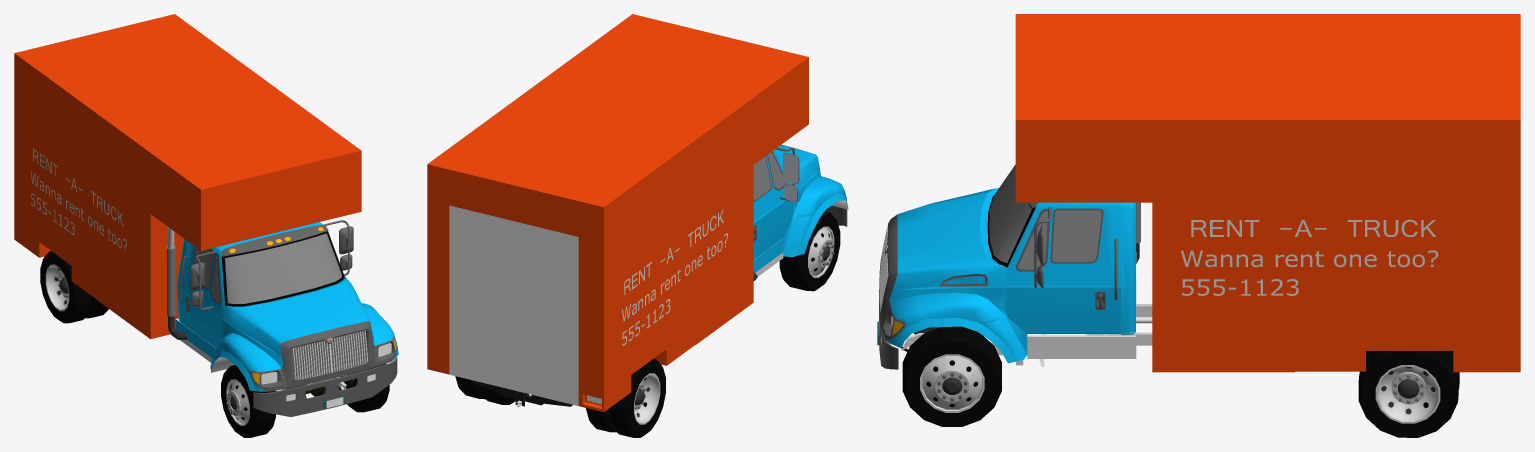
The picture shows the model from 3 angles, left to right: view 1: azimuth 30°, elevation 25°; view 2: azimuth 150°, elevation 25°; view 3: azimuth 270°, elevation 25°; orthographic projection. The views are drawn at different scales.
Parts seen in each view (by area): view 1: Layer0_001, Component#1_001, Component#9_001, Component#7_001, Wanna rent one t_001, Component#8_001, RENT -A- TRUCK#1_001; view 2: Layer0_001, Component#1_001, Component#9_001, Component#7_001, Wanna rent one t_001, Component#9_002, Rear bumper_001, RENT -A- TRUCK#1_001; view 3: Layer0_001, Component#1_001, Component#8_001, Component#9_002, Component#4_001, Wanna rent one t#1_001, RENT -A- TRUCK#2_001.
Part boxes in pixels (left/top/right/bottom): Layer0_001: left=14, top=14, right=361, bottom=408; Component#1_001: left=167, top=220, right=398, bottom=416; Component#9_001: left=40, top=251, right=108, bottom=323; Component#7_001: left=221, top=365, right=275, bottom=437; Wanna rent one t_001: left=30, top=171, right=126, bottom=251; Component#8_001: left=338, top=363, right=389, bottom=412; RENT -A- TRUCK#1_001: left=33, top=148, right=123, bottom=226; Layer0_001: left=427, top=14, right=808, bottom=412; Component#1_001: left=753, top=144, right=848, bottom=280; Component#9_001: left=586, top=358, right=665, bottom=437; Component#7_001: left=779, top=211, right=840, bottom=291; Wanna rent one t_001: left=622, top=233, right=727, bottom=345; Component#9_002: left=455, top=376, right=515, bottom=404; Rear bumper_001: left=471, top=380, right=572, bottom=406; RENT -A- TRUCK#1_001: left=624, top=209, right=723, bottom=294; Layer0_001: left=877, top=14, right=1520, bottom=372; Component#1_001: left=879, top=164, right=1140, bottom=369; Component#8_001: left=902, top=326, right=1001, bottom=426; Component#9_002: left=1358, top=351, right=1459, bottom=437; Component#4_001: left=1027, top=335, right=1136, bottom=358; Wanna rent one t#1_001: left=1181, top=250, right=1438, bottom=295; RENT -A- TRUCK#2_001: left=1191, top=219, right=1435, bottom=236.
Bounding box in the file's own units: 2759 × 3856 × 6975.
